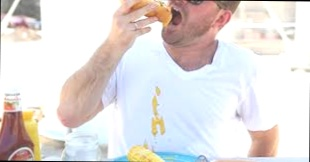mustard: (146, 87, 161, 138), (150, 112, 167, 136)
